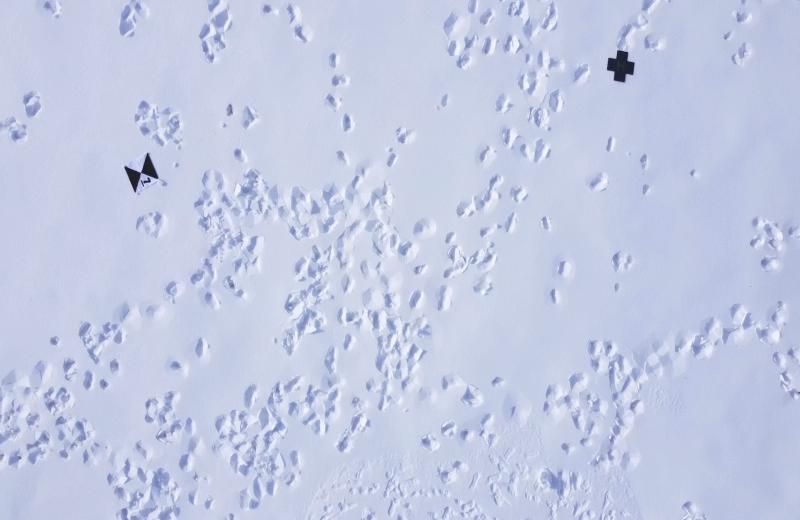Cross: (606, 49, 638, 89)
